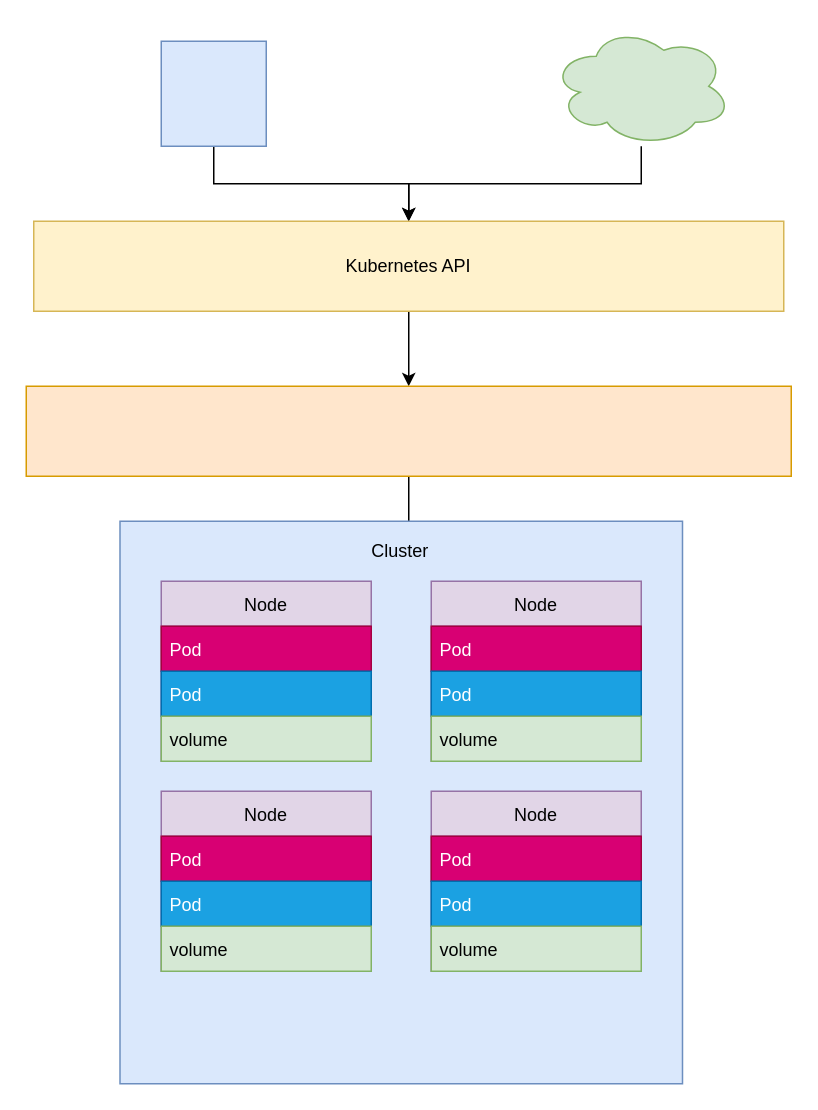
The diagram is 818 pixels wide and 1110 high, and some of its shapes have lost their labels. The box of each missing label's shape, as (x1, y1, x2, y2) in pixels:
Internet: (550, 25, 731, 146)
My computer: (160, 40, 266, 146)
Service: (25, 385, 791, 476)
